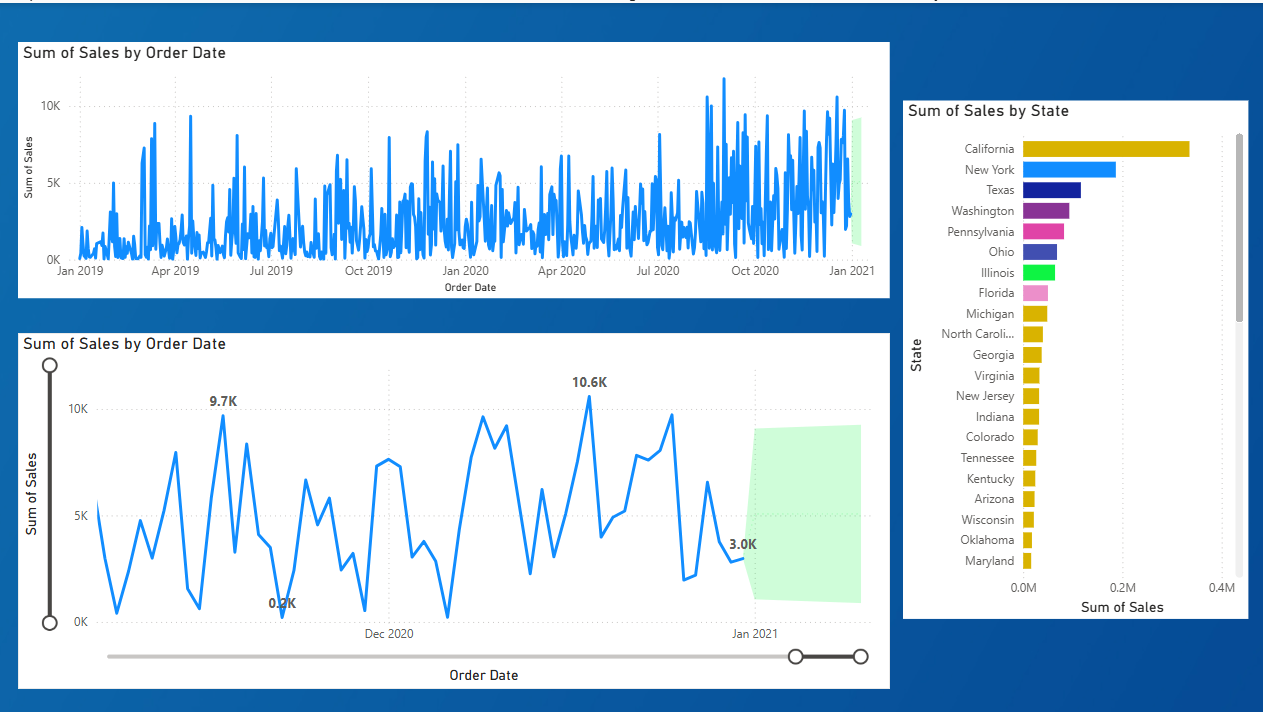

What the dashboard file says about the page in this screenshot:
{"tool":"powerbi","page":{"name":"Sales Forecast","canvas":[1280,720],"ordinal":1},"visuals":[{"type":"lineChart","fields":{"Y":["Sum(SuperStore_Sales_Dataset.Sales)"],"Category":["SuperStore_Sales_Dataset.Order Date"]},"box":[21.7,40,880,258.3],"z":0},{"type":"lineChart","fields":{"Y":["Sum(SuperStore_Sales_Dataset.Sales)"],"Category":["SuperStore_Sales_Dataset.Order Date"]},"box":[21.7,333.3,880,358.3],"z":1000},{"type":"clusteredBarChart","fields":{"Y":["Sum(SuperStore_Sales_Dataset.Sales)"],"Category":["SuperStore_Sales_Dataset.State"]},"box":[915,98.3,348.3,523.3],"z":2000}]}

Visuals, with their boxes in screenshot pixels (x1, y1, x2, y2), scaled from the page's 1280x720 canvas onto the 1263x712 screenshot:
lineChart - Sum(SuperStore_Sales_Dataset.Sales) x SuperStore_Sales_Dataset.Order Date: 21/40/890/295
lineChart - Sum(SuperStore_Sales_Dataset.Sales) x SuperStore_Sales_Dataset.Order Date: 21/330/890/684
clusteredBarChart - Sum(SuperStore_Sales_Dataset.Sales) x SuperStore_Sales_Dataset.State: 903/97/1247/615
